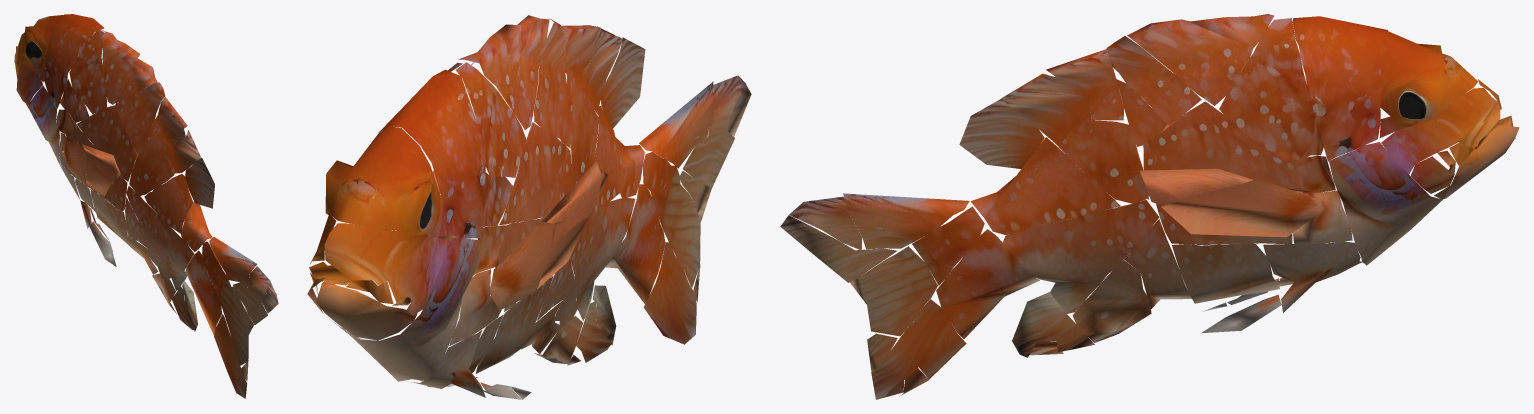
The model's file is trop_anthias.glb.
The picture shows the model from 3 angles, left to right: view 1: azimuth 30°, elevation 25°; view 2: azimuth 150°, elevation 25°; view 3: azimuth 270°, elevation 25°; orthographic projection. The views are drawn at different scales.
Visible parts, largest first — view 1: tripo_node_88f77587-e3b9-4d8a-829b-64c5d208a5de; view 2: tripo_node_88f77587-e3b9-4d8a-829b-64c5d208a5de; view 3: tripo_node_88f77587-e3b9-4d8a-829b-64c5d208a5de.
Boxes of the visible parts, left/top/right/bottom form: tripo_node_88f77587-e3b9-4d8a-829b-64c5d208a5de: left=14, top=14, right=278, bottom=398; tripo_node_88f77587-e3b9-4d8a-829b-64c5d208a5de: left=307, top=15, right=751, bottom=399; tripo_node_88f77587-e3b9-4d8a-829b-64c5d208a5de: left=780, top=14, right=1519, bottom=399.
Size of the model in its own units: 0.1662 by 0.5762 by 1.
Materials: 1 (1 with a texture image).
